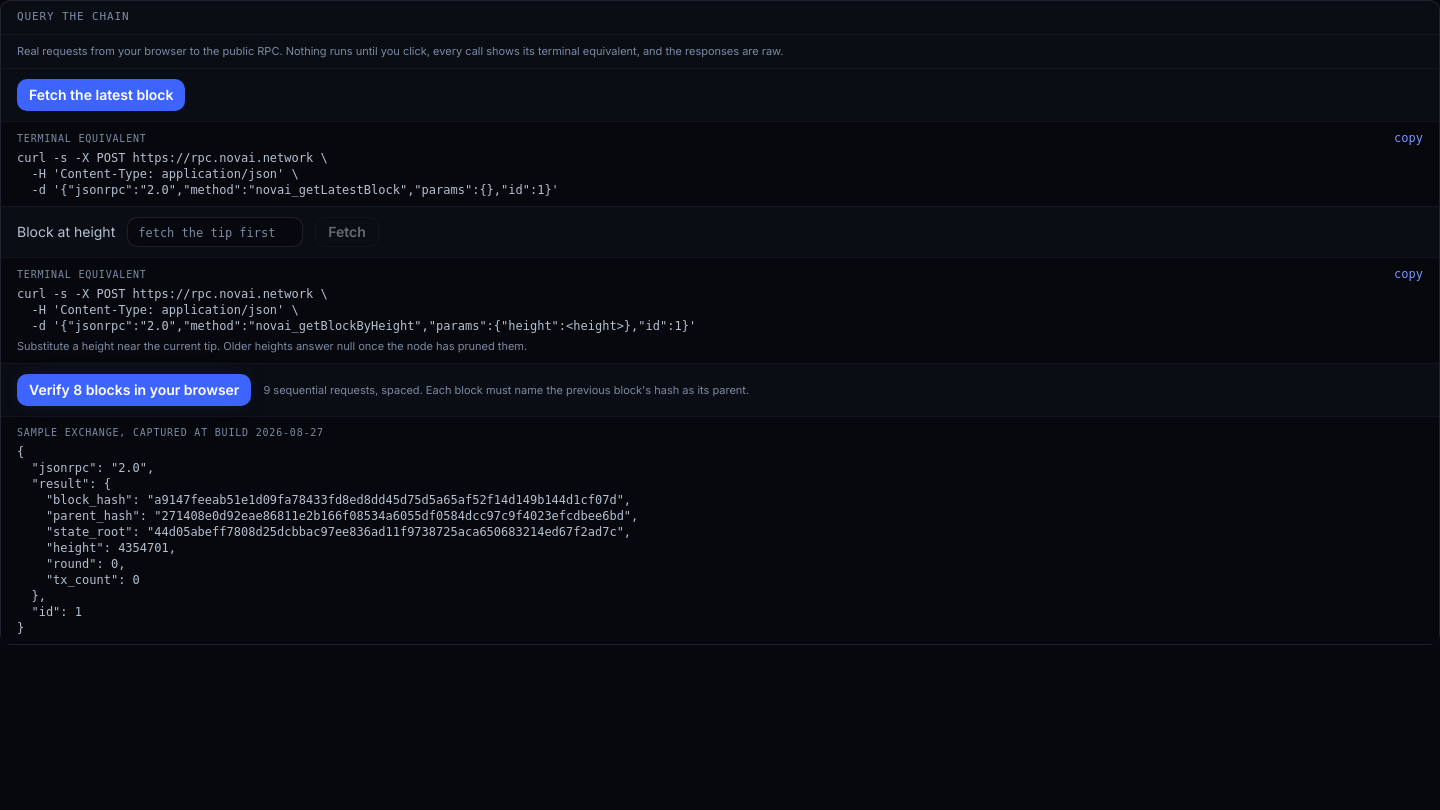
VerifyPanel › a corrupted link is DISPLAYED as a mismatch and the walk stops
The width and height of the screenshot is (1440, 810).
What coordinates should you click on to do the following:
click the button "Verify 8 blocks in your browser"
I would click on:
 (134, 390)
Its box is [17,374,251,406].
Wait 3000 ms
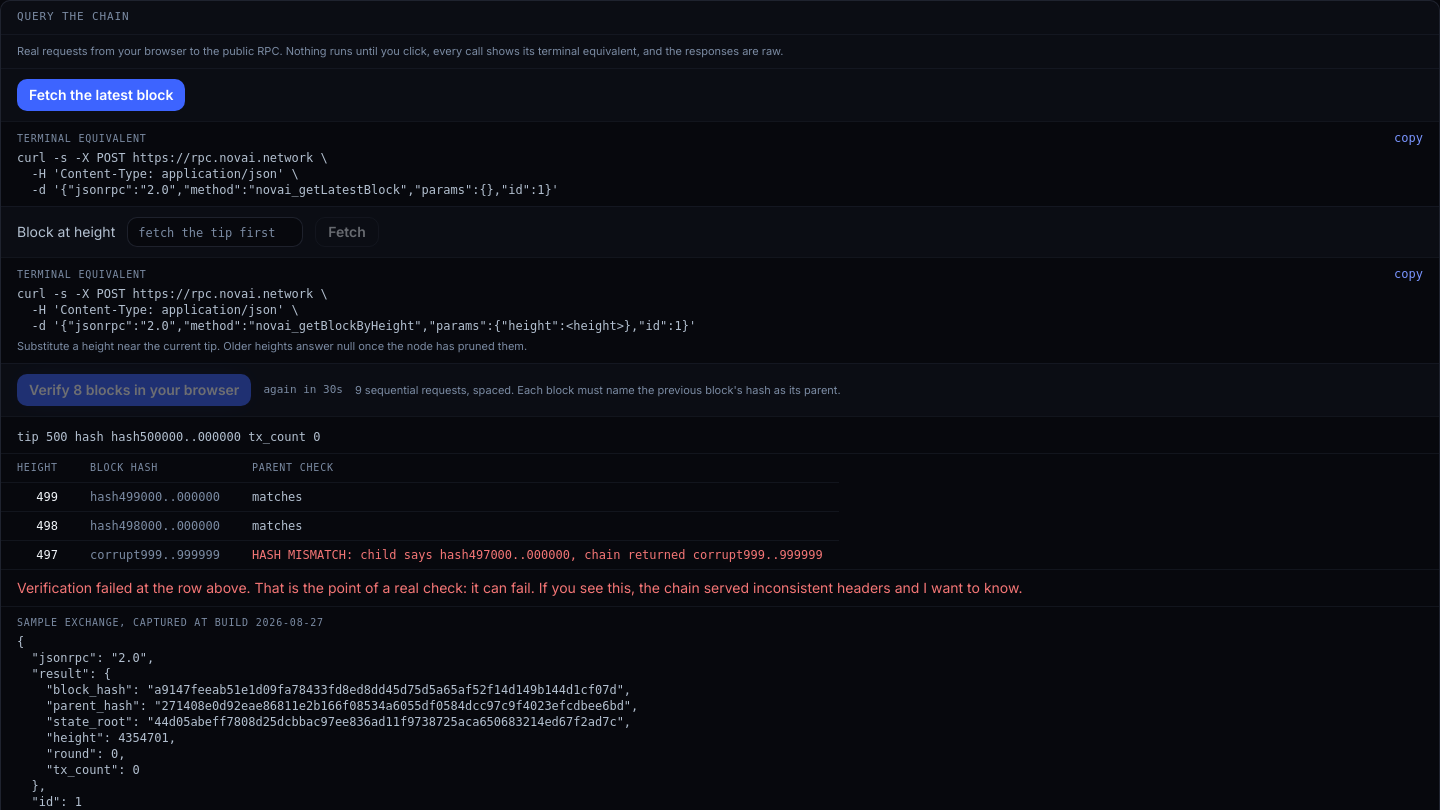
Result: the text "HASH MISMATCH" is shown at [252,548,823,562]
Result: the text "Verification failed at the row above" is shown at [17,579,1022,596]
